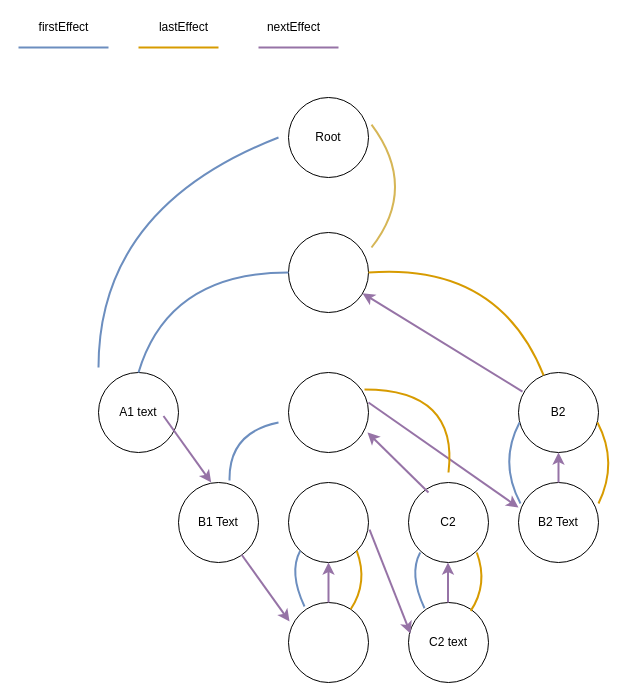
This 626x700 diagram has some shape labels left out. Here are the shapes that lost their labels. From the top down, the centre of each, then its label:
At point (328, 272): "A1".
At point (328, 412): "B1".
At point (328, 522): "C1".
At point (328, 642): "C1 text".
